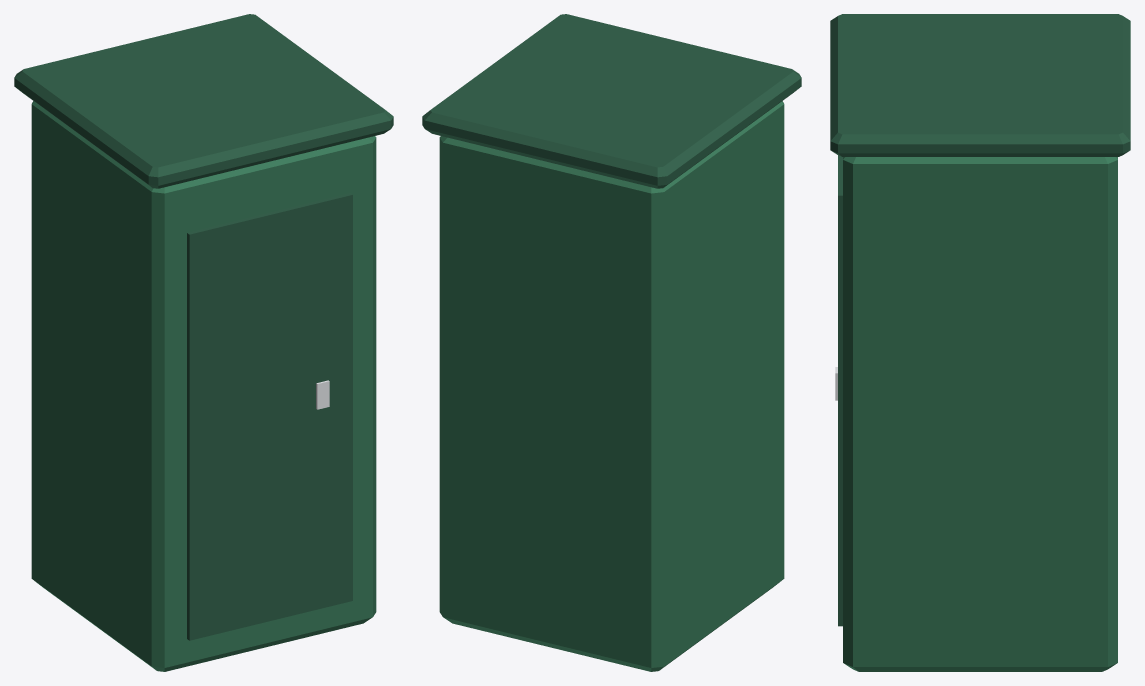
File: portable_toilet.glb
3 renders of one model, left to right at view 1: azimuth 30°, elevation 25°; view 2: azimuth 150°, elevation 25°; view 3: azimuth 270°, elevation 25°, orthographic. The views are drawn at different scales.
Parts seen in each view (by area): view 1: portable_toilet; view 2: portable_toilet; view 3: portable_toilet.
Boxes of the visible parts, x1,y1,x2,y2 form: portable_toilet: [14, 14, 393, 671]; portable_toilet: [422, 14, 801, 671]; portable_toilet: [830, 14, 1130, 671].
Size of the model in its own units: 1.2 by 2.4 by 1.2.
